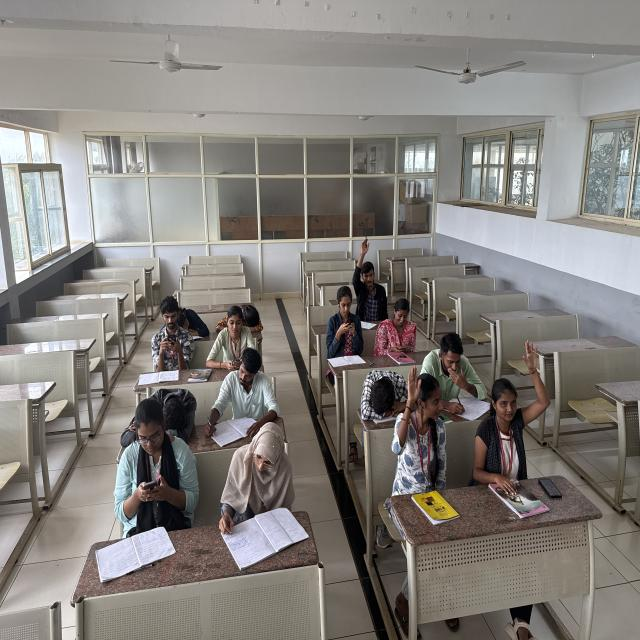Hand Rising: (467, 314, 545, 475), (397, 367, 451, 480), (352, 224, 394, 325)
Sleeping: (146, 362, 205, 438), (352, 355, 412, 428), (212, 283, 272, 342), (179, 282, 212, 352)
Using Phone: (114, 402, 190, 513), (365, 286, 424, 366), (190, 306, 250, 373), (141, 296, 192, 372), (319, 286, 363, 365)
Writing: (218, 424, 311, 553), (424, 308, 491, 425), (202, 359, 278, 454)
